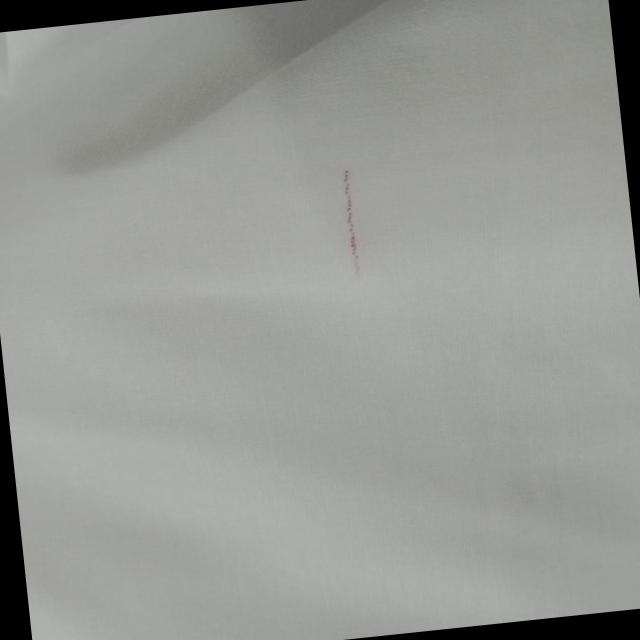contamination: (332, 158, 371, 280)
